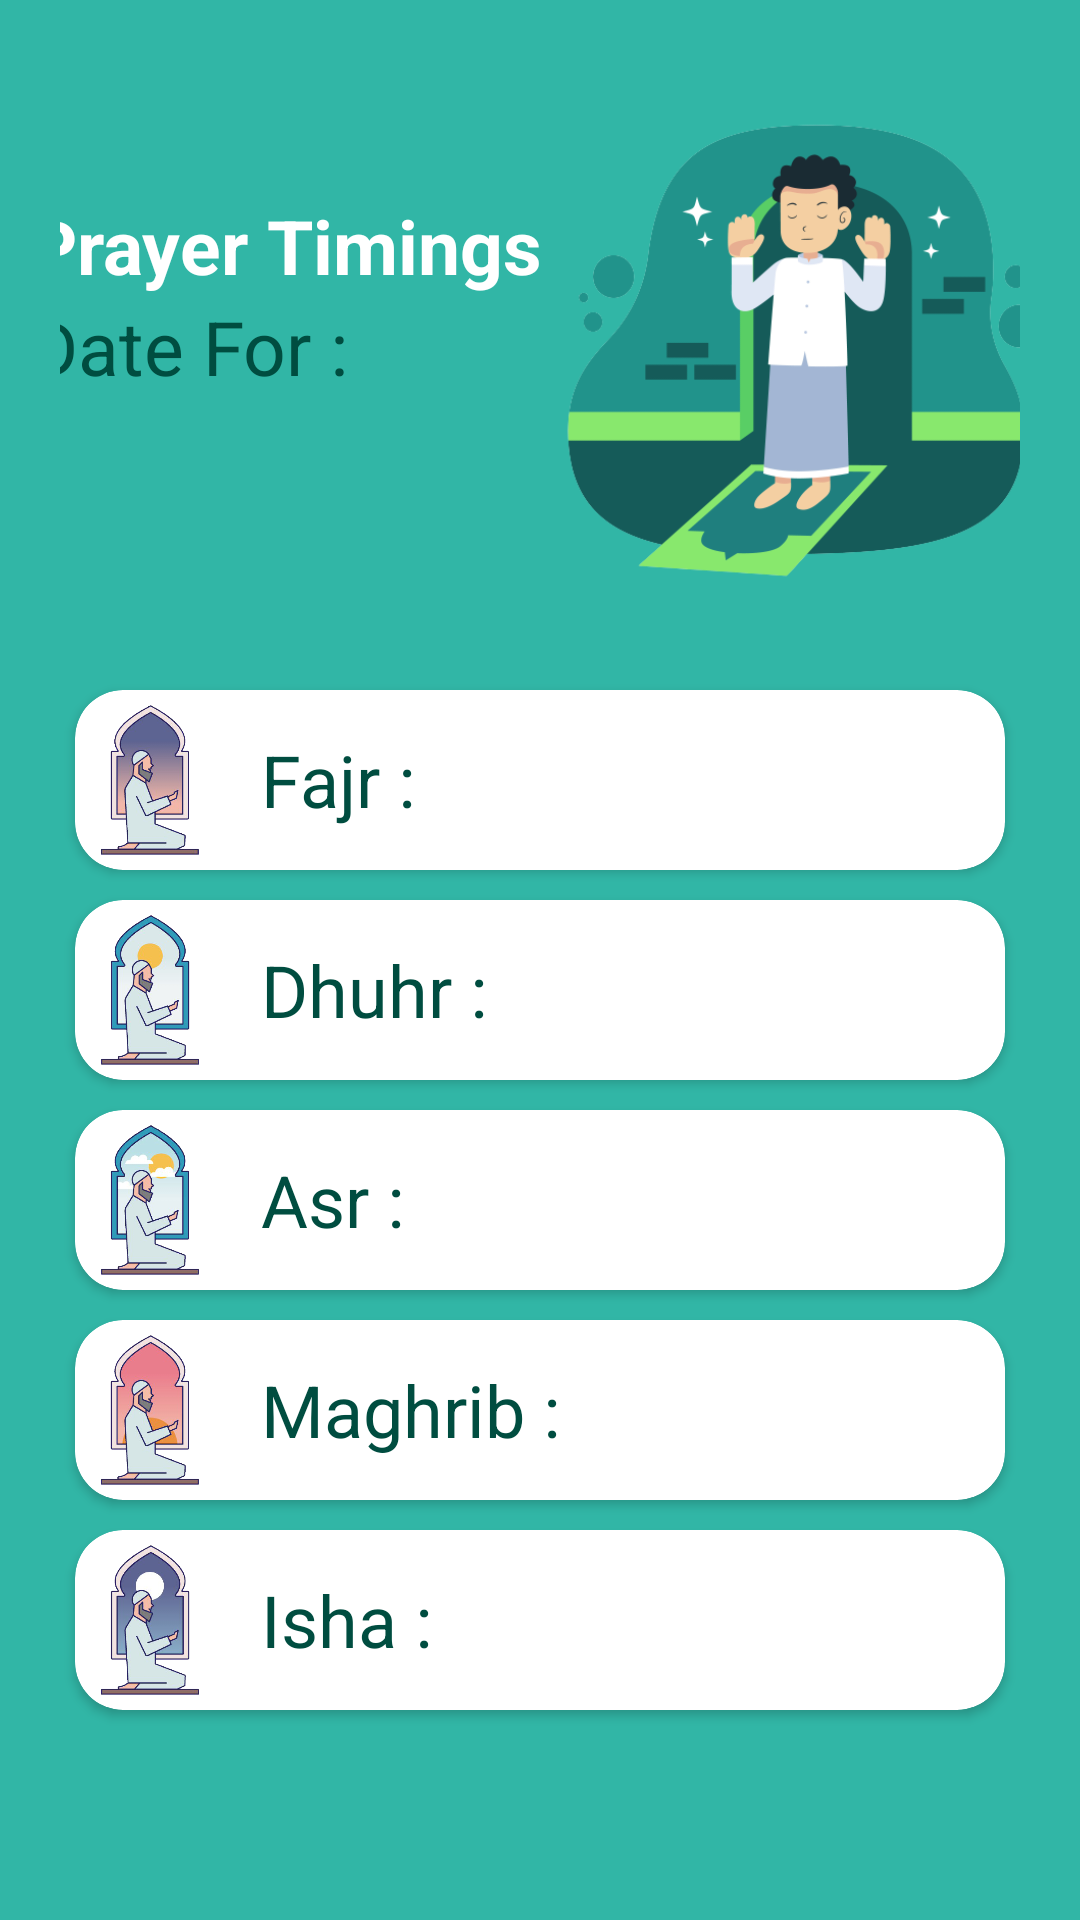

Where to tap for icons on this 1080*1920 app screen, as point (x, y):
dohr: point (150, 990)
fajer: point (150, 780)
magrid: point (150, 1410)
